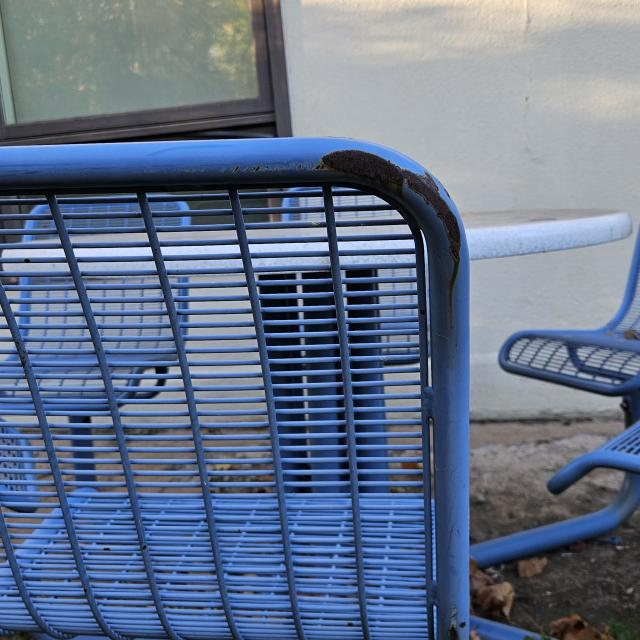Filiform Corrosion: (220, 150, 463, 340)
